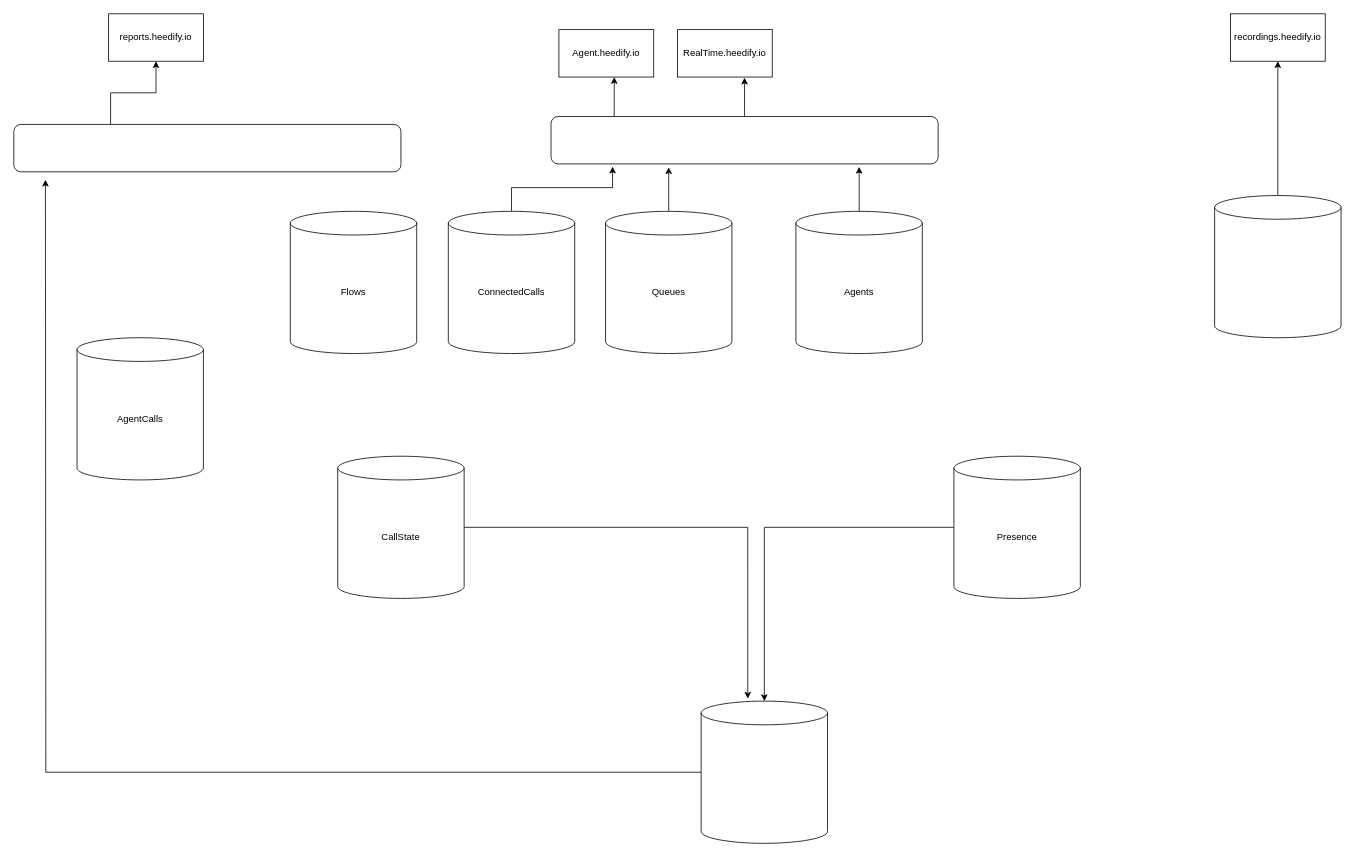
This 1355x857 diagram has some shape labels left out. The box of each missing label's shape, as (x1, y1, x2, y2) in pixels:
Azure SignalR: (550, 116, 938, 164)
CdrAccount: (700, 700, 828, 843)
PowerBi: (13, 124, 401, 172)
RecordingsAudioFiles: (1214, 195, 1341, 338)
